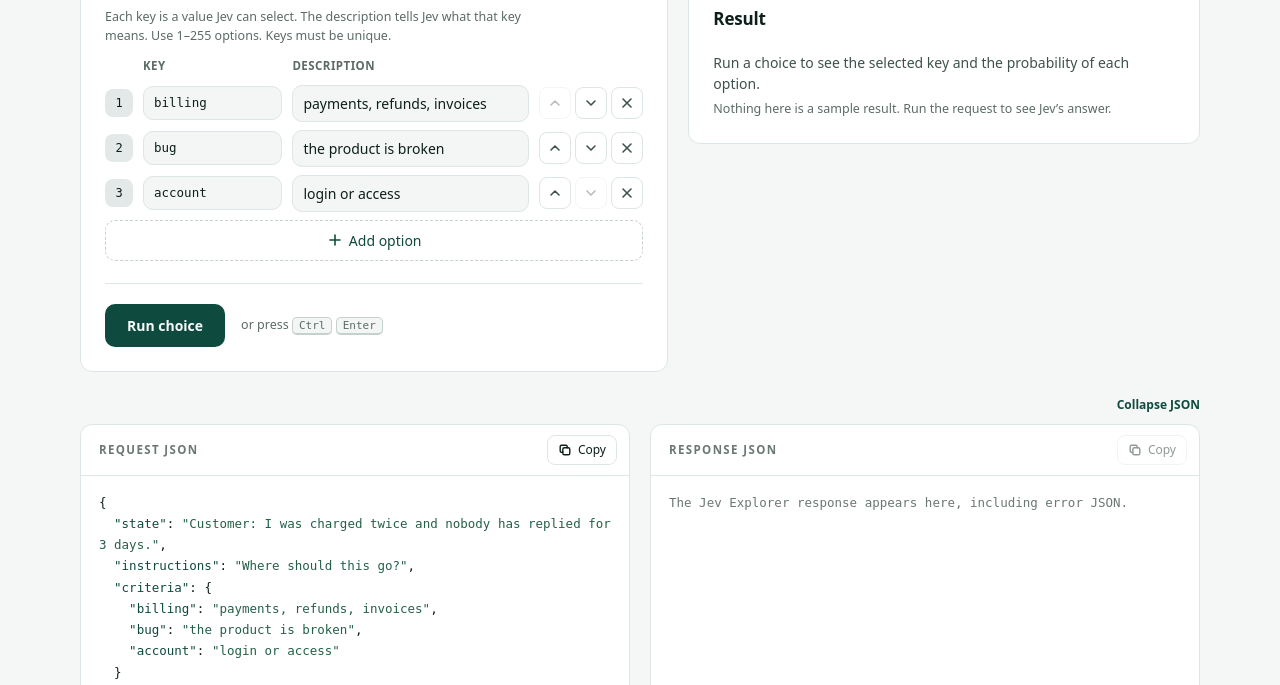
Scenario: Explorer › posts the choice body that the inspector shows
(page scrolled)
Click the button "Run choice" at (165, 325), box [105, 304, 225, 346]
(page scrolled)
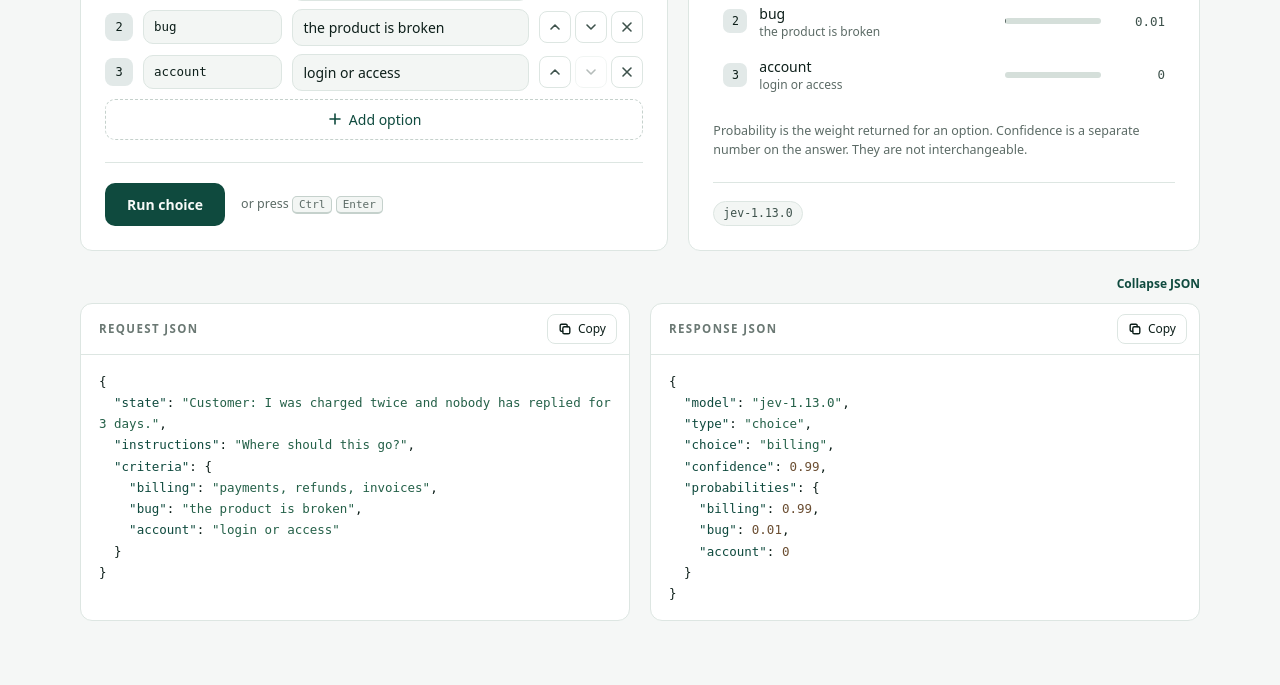
Check: the element with id "request-json" shows "\"criteria\"", box [114, 458, 189, 474]
Check: the element with id "response-json" shows "\"choice\": \"billing\"", box [669, 374, 850, 601]
